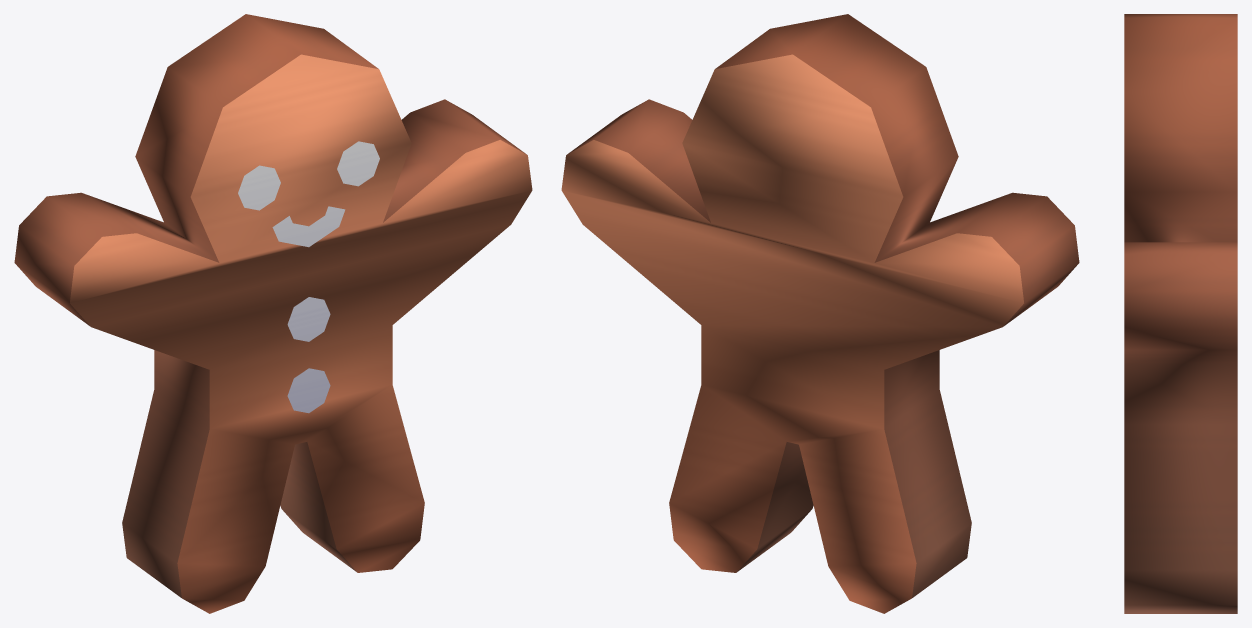
The model's file is gingerbread-man_lev3.glb.
3 renders of one model, left to right at view 1: azimuth 30°, elevation 25°; view 2: azimuth 150°, elevation 25°; view 3: azimuth 270°, elevation 25°, orthographic. The views are drawn at different scales.
Parts seen in each view (by area): view 1: gingerbread-man_lev3; view 2: gingerbread-man_lev3; view 3: gingerbread-man_lev3.
Boxes of the visible parts, bbox=[...] form: gingerbread-man_lev3: bbox=[14, 14, 532, 613]; gingerbread-man_lev3: bbox=[561, 14, 1079, 613]; gingerbread-man_lev3: bbox=[1124, 14, 1237, 613].
Bounding box in the file's own units: 0.3393 × 0.3764 × 0.0802.
1 material, 1 textured.
